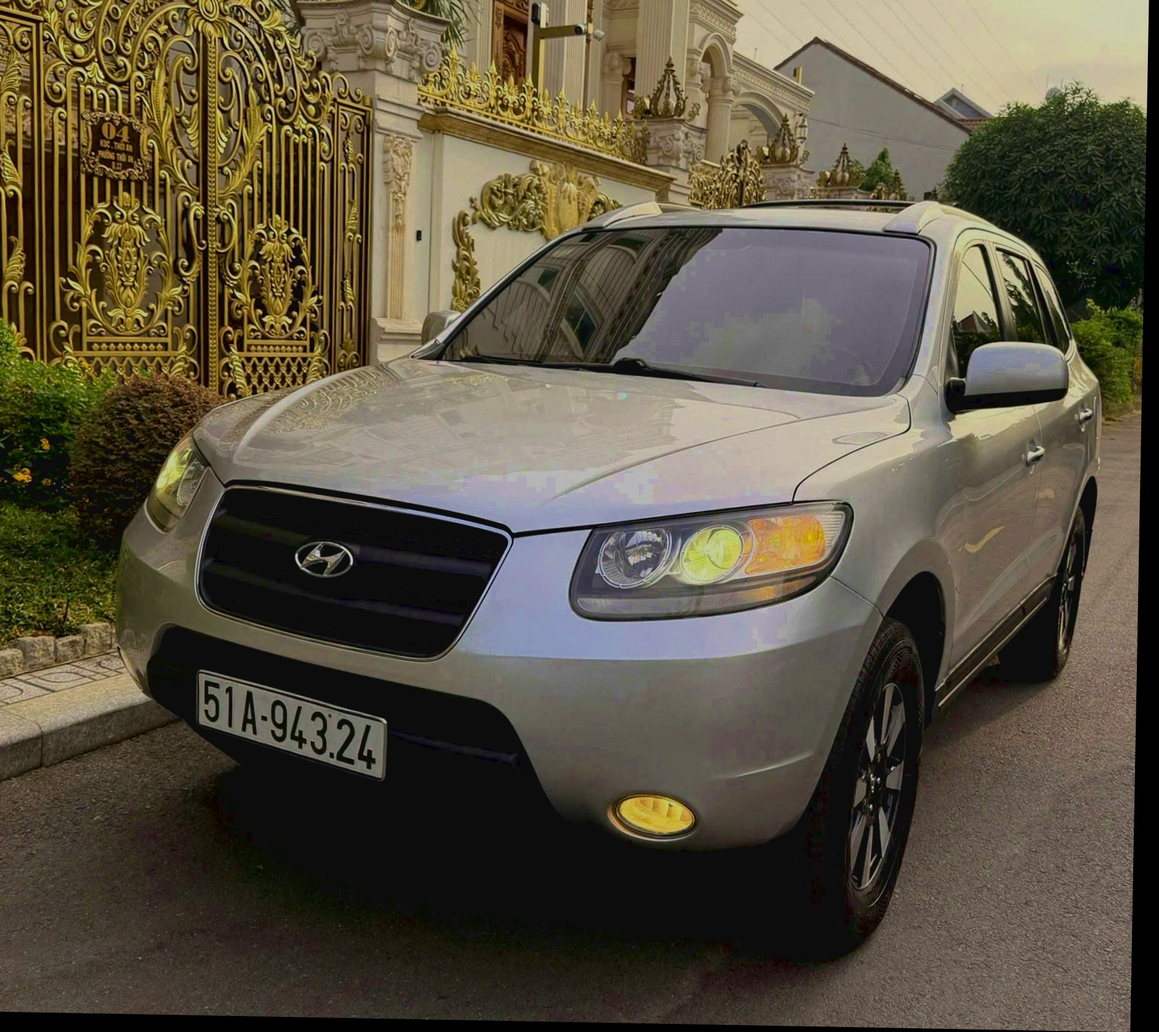Bien-so: (208, 700, 409, 804)
